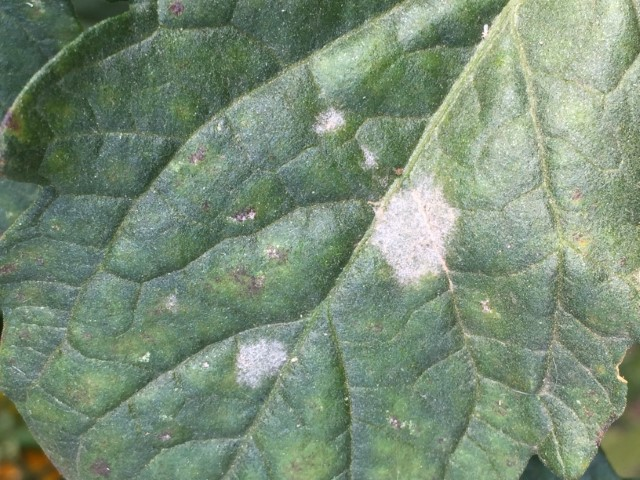oidio: (369, 171, 461, 290), (234, 338, 288, 390), (311, 107, 346, 134), (356, 144, 377, 170), (164, 291, 178, 313), (135, 351, 152, 364)
